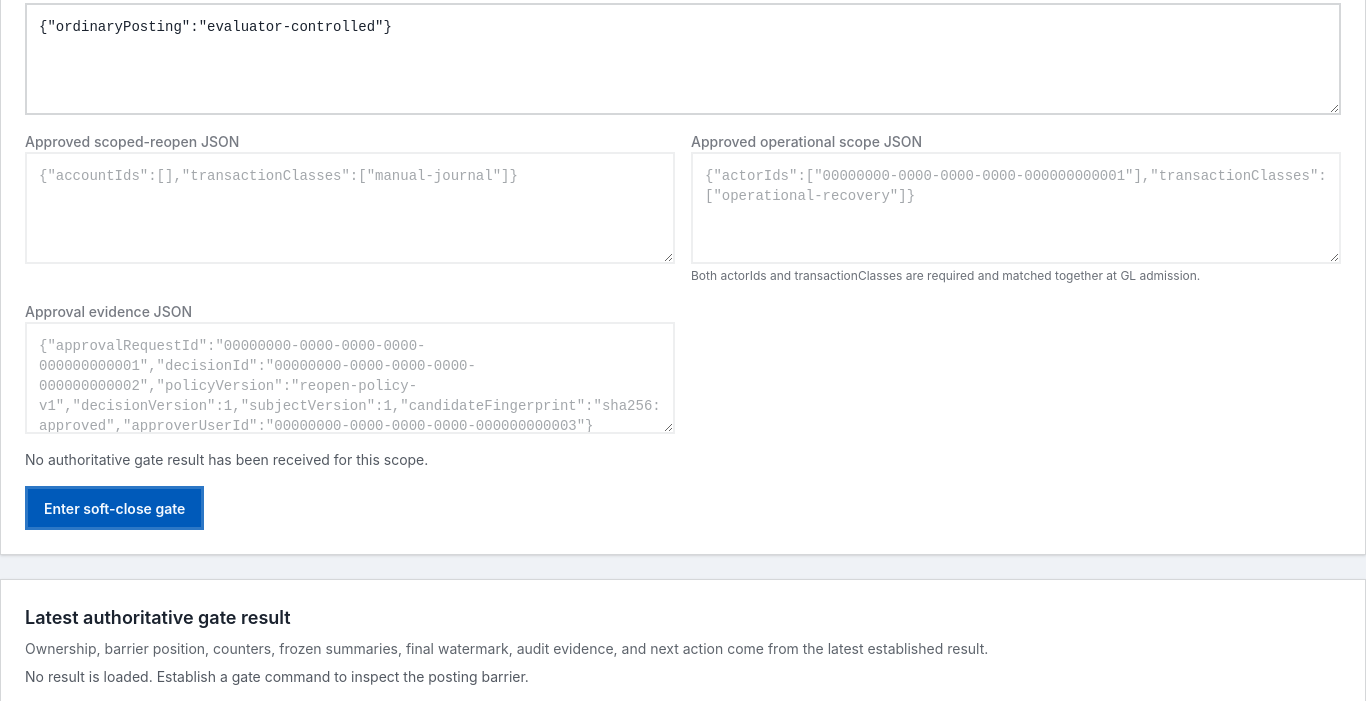
Test case: GL posting-gate monitor › renders only the latest action result and uses its version for exit
(page scrolled)
expect the text "No authoritative gate result has been received for this scope." is shown: met, box [25,451,428,468]
Click the button "Enter soft-close gate". click: (115, 508)
box: [25,486,204,530]
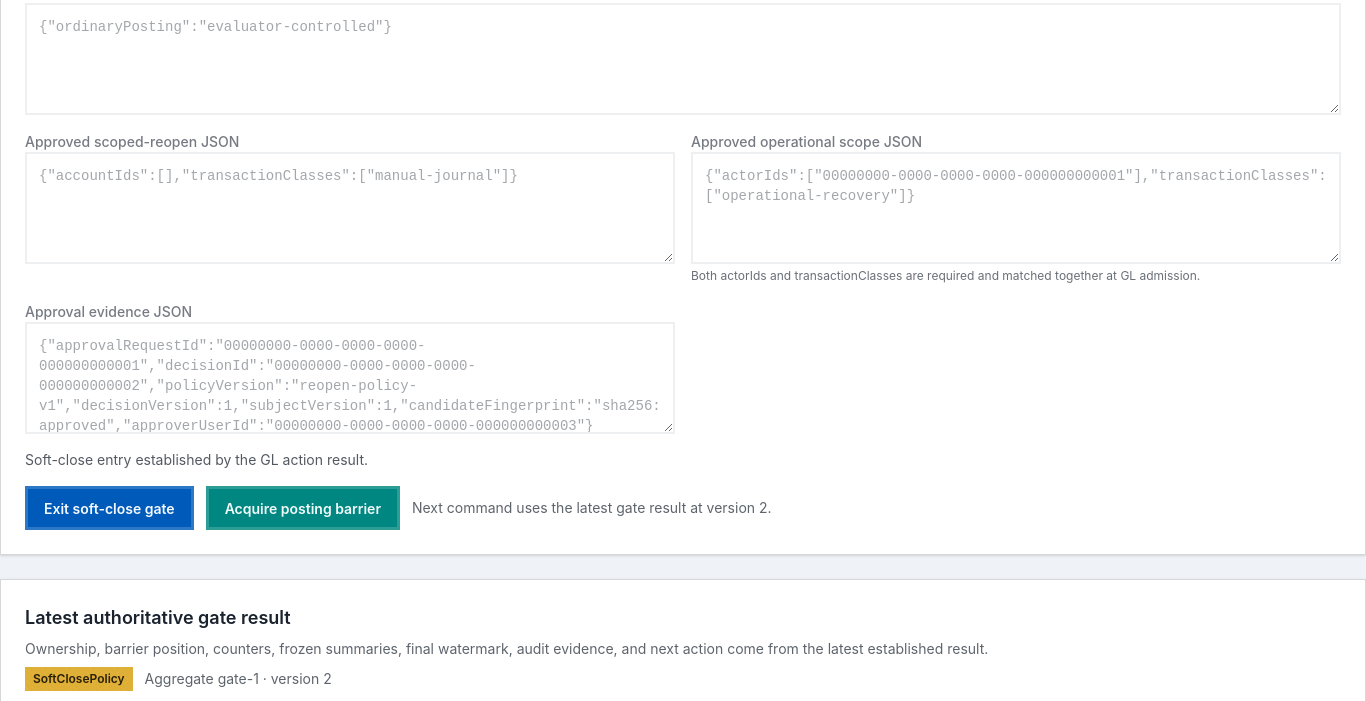
expect the message "SoftClosePolicy" is shown: met, box [25,667,133,691]
expect the text "Soft-close entry established by the GL action result." is shown: met, box [25,451,368,468]
Click the button "Exit soft-close gate". click: (109, 508)
box: [25,486,194,530]
(page scrolled)
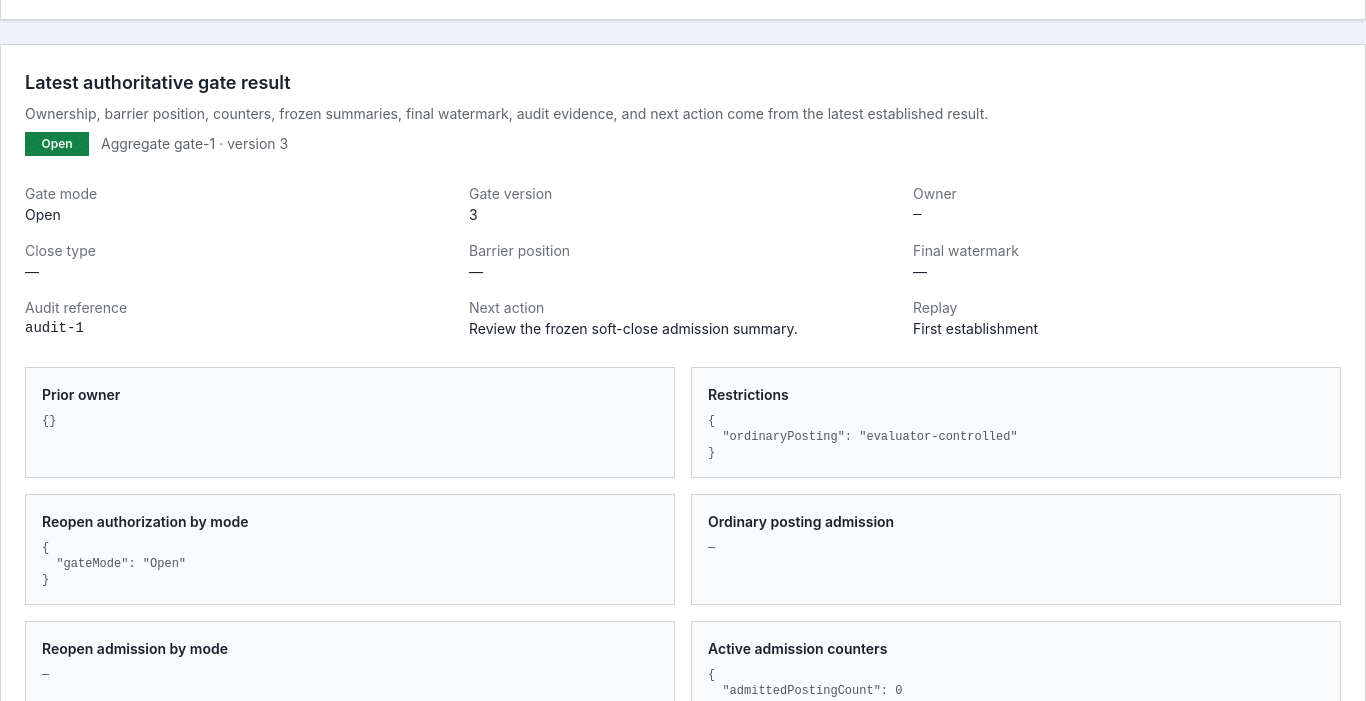
expect the message "Open" is shown: met, box [25,132,89,156]
expect the text "Review the frozen soft-close admission summary." is shown: met, box [469,320,798,337]
